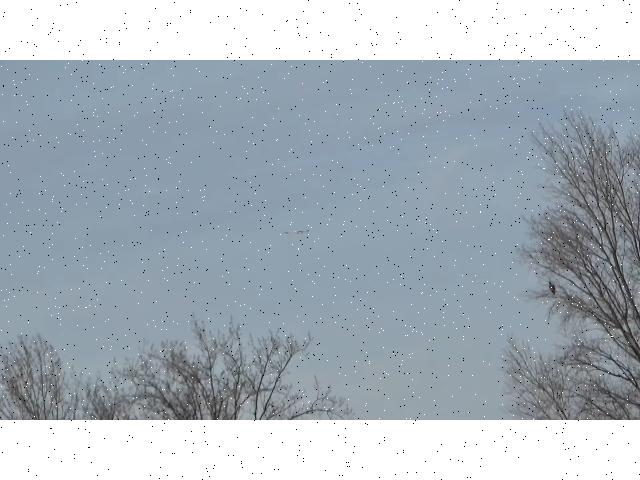Anti-Drone: (282, 232, 308, 235)
